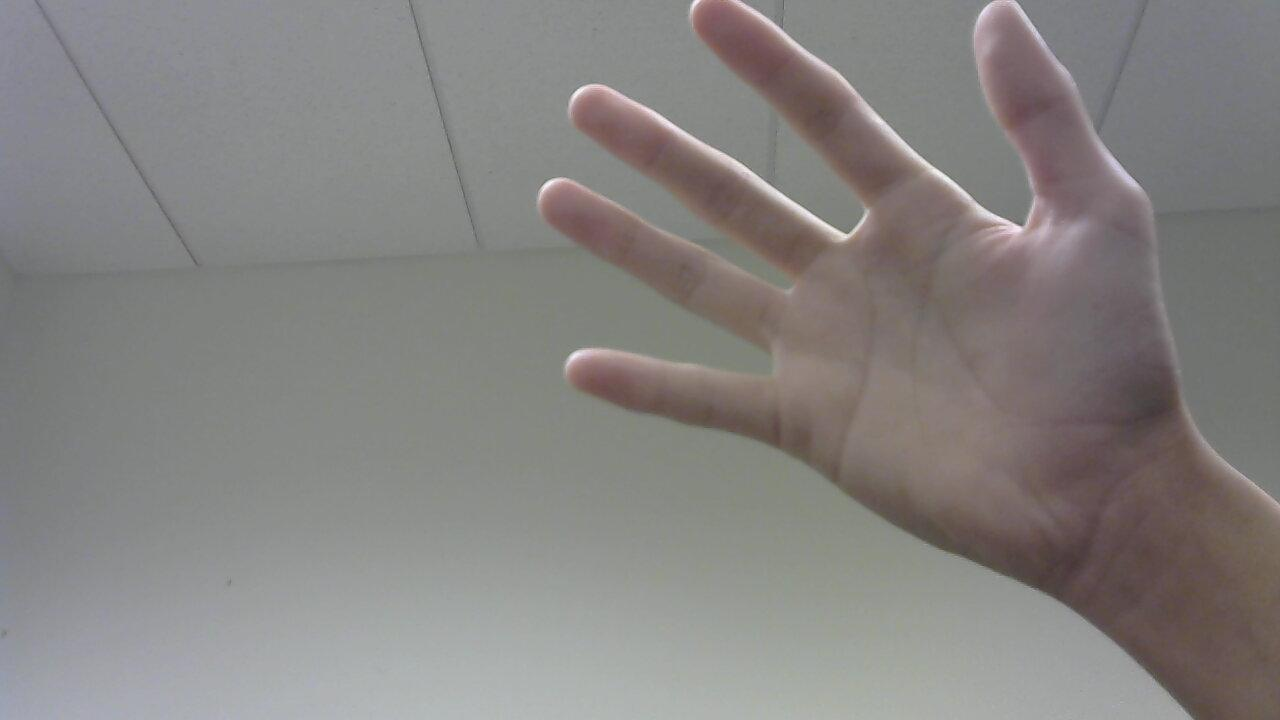hands: (533, 4, 1227, 624)
